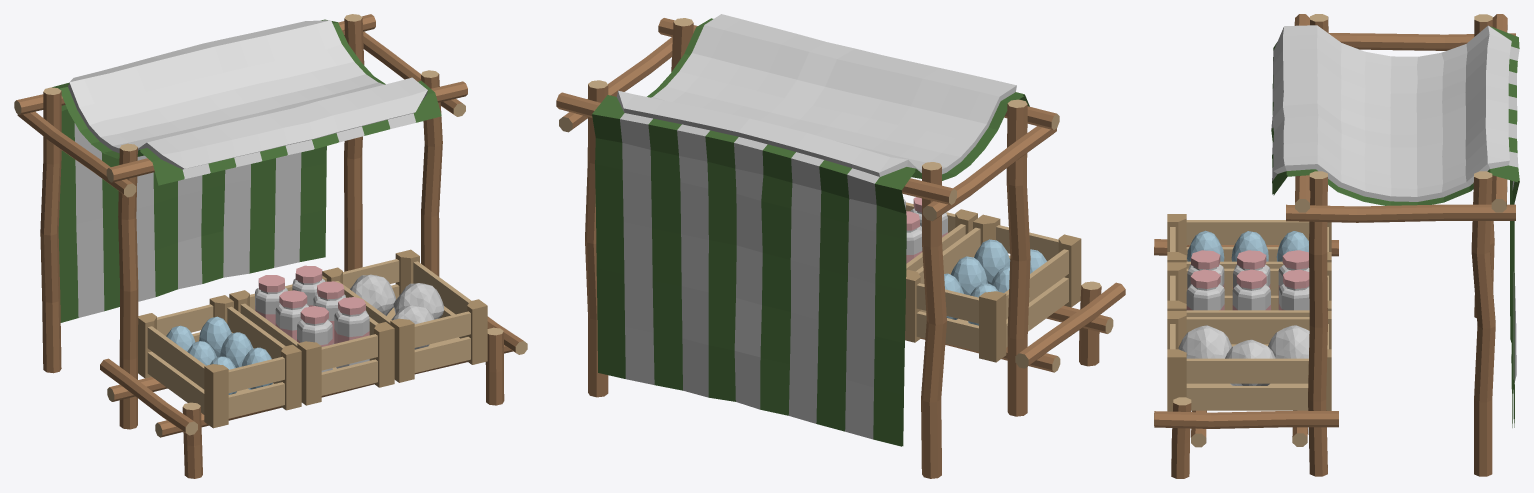
Rendered from Stall11.fbx.
The picture shows the model from 3 angles, left to right: view 1: azimuth 30°, elevation 25°; view 2: azimuth 150°, elevation 25°; view 3: azimuth 270°, elevation 25°; orthographic projection. The views are drawn at different scales.
Parts seen in each view (by area): view 1: Stall11; view 2: Stall11; view 3: Stall11.
Boxes of the visible parts, left/top/right/bottom form: Stall11: left=14, top=14, right=527, bottom=478; Stall11: left=556, top=14, right=1125, bottom=478; Stall11: left=1154, top=14, right=1519, bottom=478.
Bounding box in the file's own units: 4 × 3.07 × 3.34.
